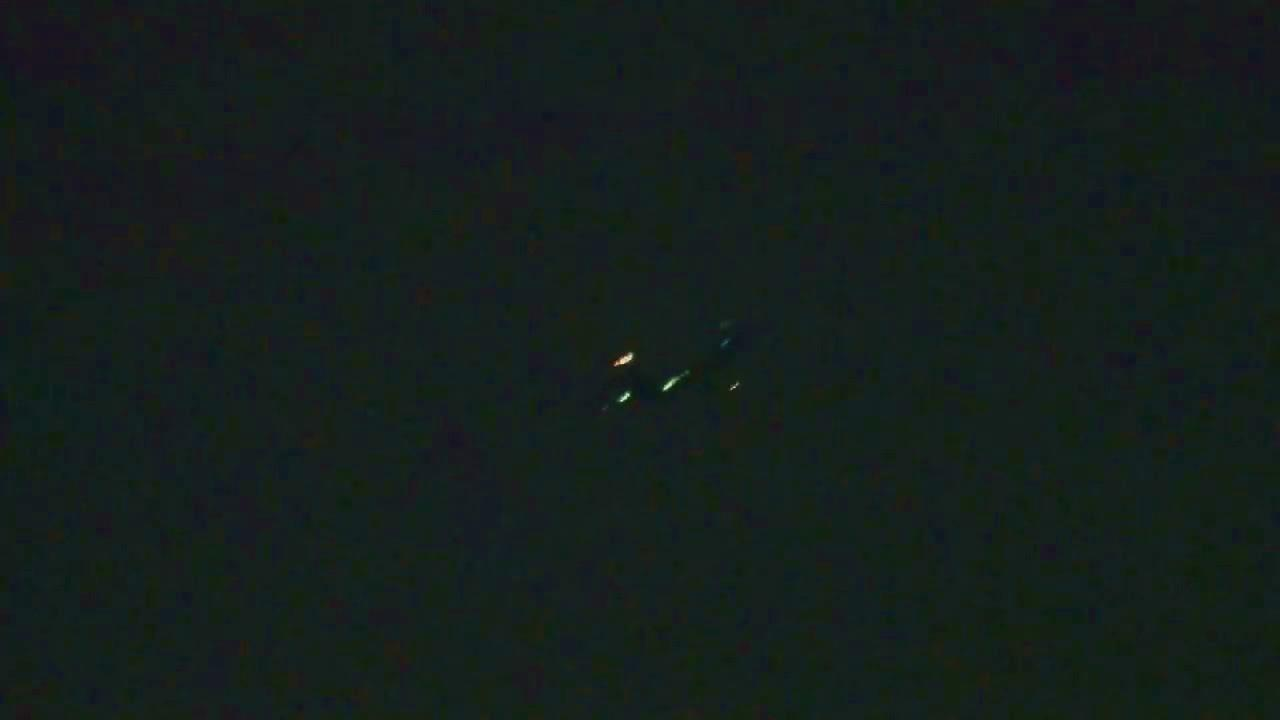Plane: (577, 299, 768, 439)
